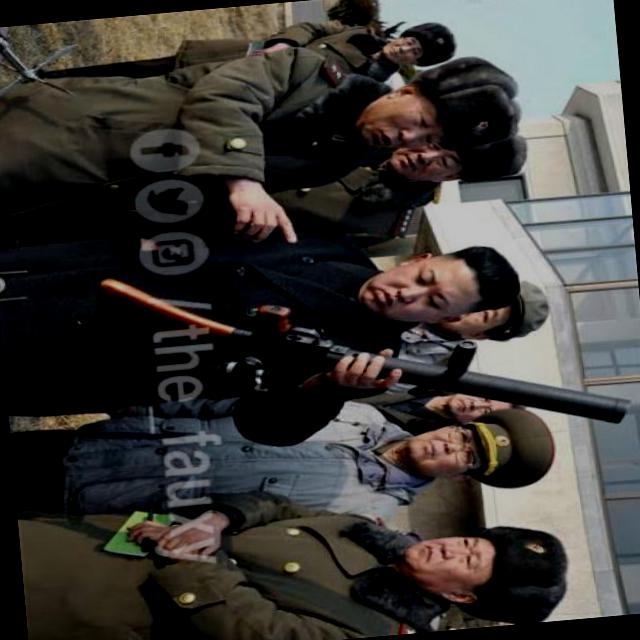long weapon: (79, 232, 635, 489)
